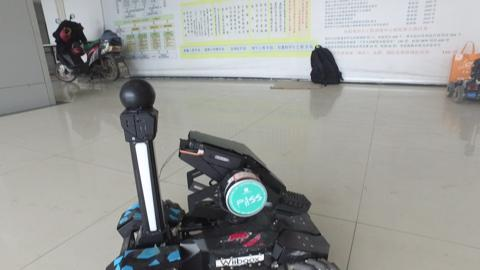bag: (307, 43, 347, 88), (447, 39, 479, 85)
chariot: (100, 76, 339, 270)
